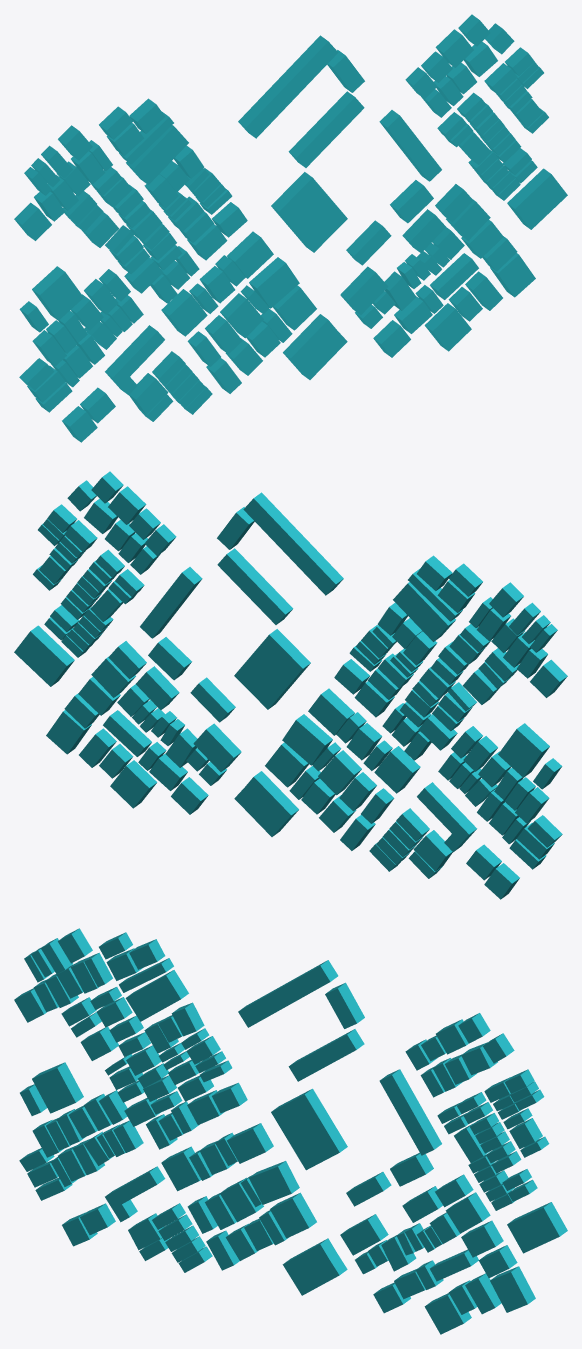
The picture shows the model from 3 angles, top to bottom: view 1: azimuth 30°, elevation 25°; view 2: azimuth 150°, elevation 25°; view 3: azimuth 330°, elevation 25°; orthographic projection.
Visible parts, largest first — view 1: OSM-BUILDING-WAY-349830413, OSM-BUILDING-WAY-349830385, OSM-BUILDING-WAY-349830606, OSM-BUILDING-WAY-349830501, OSM-BUILDING-WAY-349830474, OSM-BUILDING-WAY-349985487, OSM-BUILDING-WAY-349830397, OSM-BUILDING-WAY-349985124, OSM-BUILDING-WAY-349985327, OSM-BUILDING-WAY-349985088, OSM-BUILDING-WAY-349830378, OSM-BUILDING-WAY-349830327 (+58 smaller); view 2: OSM-BUILDING-WAY-349830413, OSM-BUILDING-WAY-349830385, OSM-BUILDING-WAY-349830606, OSM-BUILDING-WAY-349830501, OSM-BUILDING-WAY-349830474, OSM-BUILDING-WAY-349985487, OSM-BUILDING-WAY-349830397, OSM-BUILDING-WAY-349985124, OSM-BUILDING-WAY-349985327, OSM-BUILDING-WAY-349985088, OSM-BUILDING-WAY-349830378, OSM-BUILDING-WAY-349830327 (+58 smaller); view 3: OSM-BUILDING-WAY-349830413, OSM-BUILDING-WAY-349830385, OSM-BUILDING-WAY-349830397, OSM-BUILDING-WAY-349830606, OSM-BUILDING-WAY-349830474, OSM-BUILDING-WAY-349985124, OSM-BUILDING-WAY-349985327, OSM-BUILDING-WAY-349830501, OSM-BUILDING-WAY-349985088, OSM-BUILDING-WAY-349985487, OSM-BUILDING-WAY-349830348, OSM-BUILDING-WAY-349985054 (+64 smaller).
Boxes of the visible parts, box(x1,y1,x2,y2) form: OSM-BUILDING-WAY-349830413: box(271, 172, 347, 252); OSM-BUILDING-WAY-349830385: box(238, 35, 338, 138); OSM-BUILDING-WAY-349830606: box(283, 314, 347, 379); OSM-BUILDING-WAY-349830501: box(288, 91, 364, 167); OSM-BUILDING-WAY-349830474: box(507, 168, 567, 229); OSM-BUILDING-WAY-349985487: box(105, 325, 164, 395); OSM-BUILDING-WAY-349830397: box(379, 110, 441, 181); OSM-BUILDING-WAY-349985124: box(126, 125, 188, 184); OSM-BUILDING-WAY-349985327: box(32, 266, 83, 320); OSM-BUILDING-WAY-349985088: box(249, 257, 299, 308); OSM-BUILDING-WAY-349830378: box(424, 303, 471, 351); OSM-BUILDING-WAY-349830327: box(340, 266, 388, 314); OSM-BUILDING-WAY-349830413: box(234, 629, 310, 709); OSM-BUILDING-WAY-349830385: box(243, 492, 343, 595); OSM-BUILDING-WAY-349830606: box(234, 771, 298, 836); OSM-BUILDING-WAY-349830501: box(217, 548, 293, 624); OSM-BUILDING-WAY-349830474: box(14, 625, 74, 686); OSM-BUILDING-WAY-349985487: box(417, 782, 476, 852); OSM-BUILDING-WAY-349830397: box(140, 567, 202, 638); OSM-BUILDING-WAY-349985124: box(393, 582, 455, 641); OSM-BUILDING-WAY-349985327: box(498, 723, 549, 777); OSM-BUILDING-WAY-349985088: box(282, 714, 332, 765); OSM-BUILDING-WAY-349830378: box(110, 760, 157, 808); OSM-BUILDING-WAY-349830327: box(193, 723, 241, 771); OSM-BUILDING-WAY-349830413: box(271, 1088, 347, 1170); OSM-BUILDING-WAY-349830385: box(238, 960, 338, 1027); OSM-BUILDING-WAY-349830397: box(379, 1069, 441, 1155); OSM-BUILDING-WAY-349830606: box(282, 1238, 347, 1295); OSM-BUILDING-WAY-349830474: box(507, 1202, 567, 1253); OSM-BUILDING-WAY-349985124: box(125, 970, 188, 1021); OSM-BUILDING-WAY-349985327: box(32, 1062, 83, 1113); OSM-BUILDING-WAY-349830501: box(288, 1029, 364, 1081); OSM-BUILDING-WAY-349985088: box(249, 1161, 299, 1204); OSM-BUILDING-WAY-349985487: box(105, 1166, 165, 1222); OSM-BUILDING-WAY-349830348: box(490, 1266, 535, 1312); OSM-BUILDING-WAY-349985054: box(270, 1192, 316, 1238).
Bounding box in the file's own units: 351 × 210 × 9.
